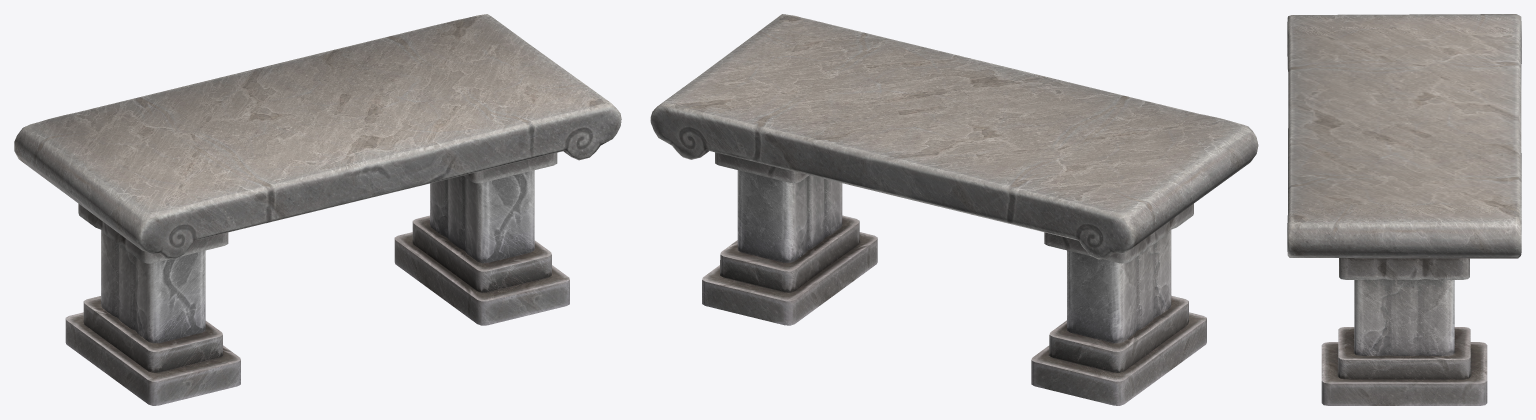
File: SM_Bench.glb
3 renders of one model, left to right at view 1: azimuth 30°, elevation 25°; view 2: azimuth 150°, elevation 25°; view 3: azimuth 270°, elevation 25°, orthographic. The views are drawn at different scales.
Visible parts, largest first — view 1: SM_Bench_LOD0; view 2: SM_Bench_LOD0; view 3: SM_Bench_LOD0.
Boxes of the visible parts, x1,y1,x2,y2 form: SM_Bench_LOD0: (14, 14, 621, 405); SM_Bench_LOD0: (650, 14, 1258, 405); SM_Bench_LOD0: (1287, 14, 1521, 405).
Size of the model in its own units: 1.18 by 0.4885 by 0.5364.
1 material, 1 textured.
